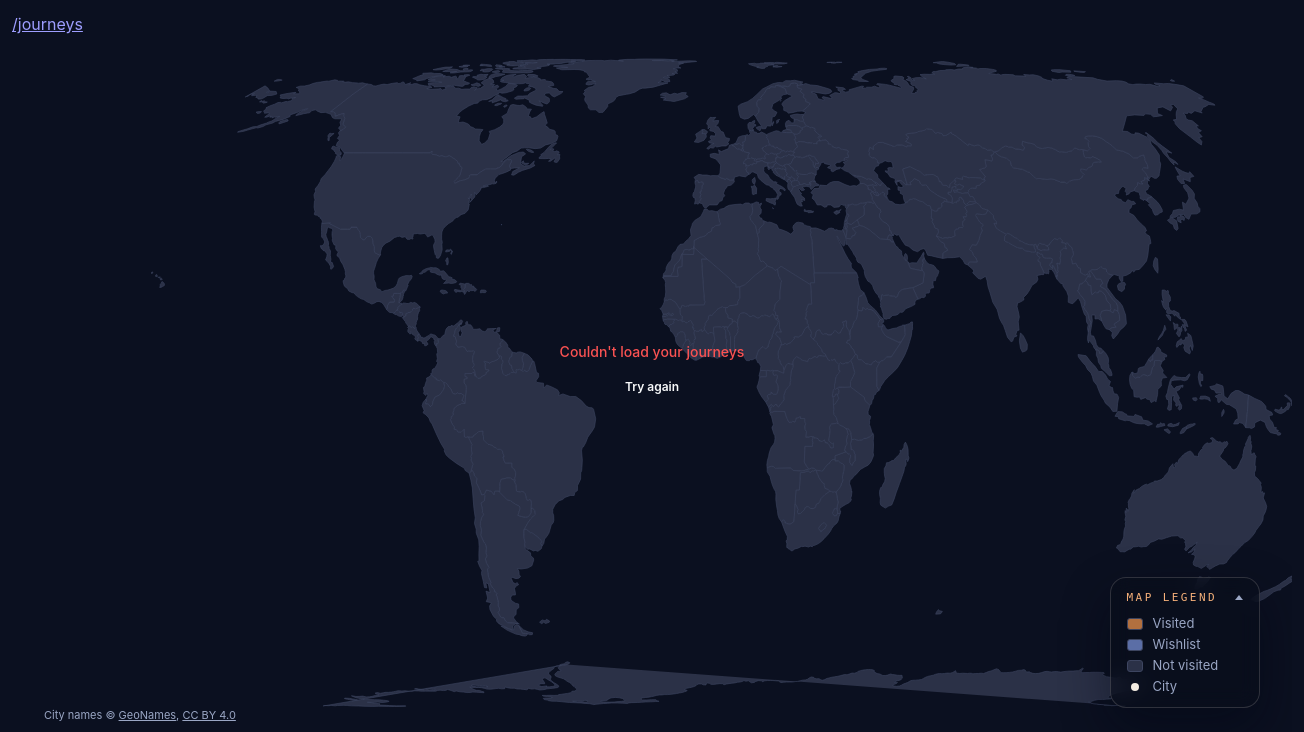
Test: JourneysMapView › на ошибке показывает алерт, а по «Try again» успешно перезагружает карту
Expected: the message shows "Couldn't load your journeys", [560,343,744,360]
Click the button "Try again". click: {"x": 652, "y": 387}
box: [610,372,694,402]
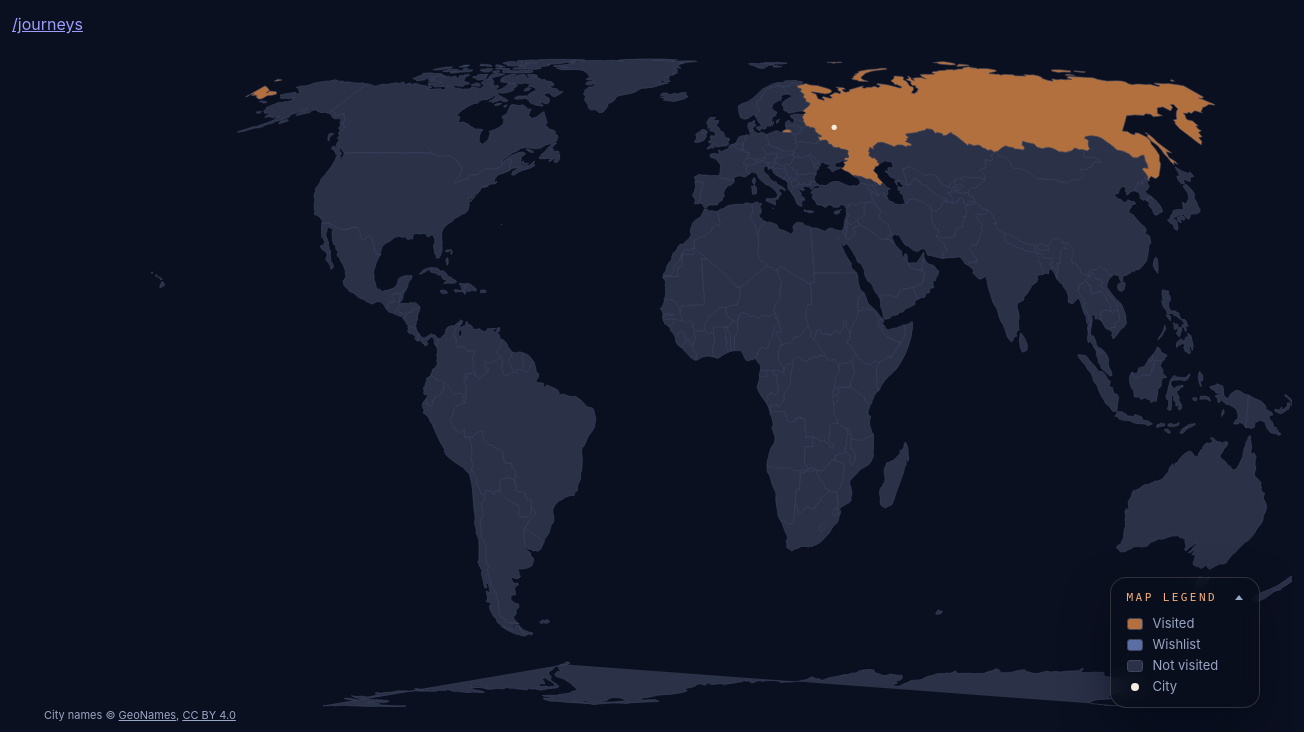
Expected: the element with class "world-map__city-dot" is shown, [831,125,836,130]
Expected: the message "Couldn't load your journeys Try again" is gone
